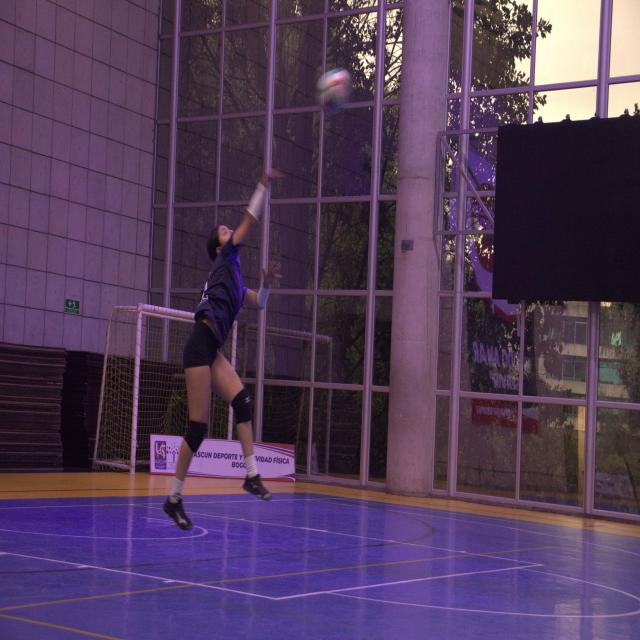volleyball: (319, 69, 351, 114)
